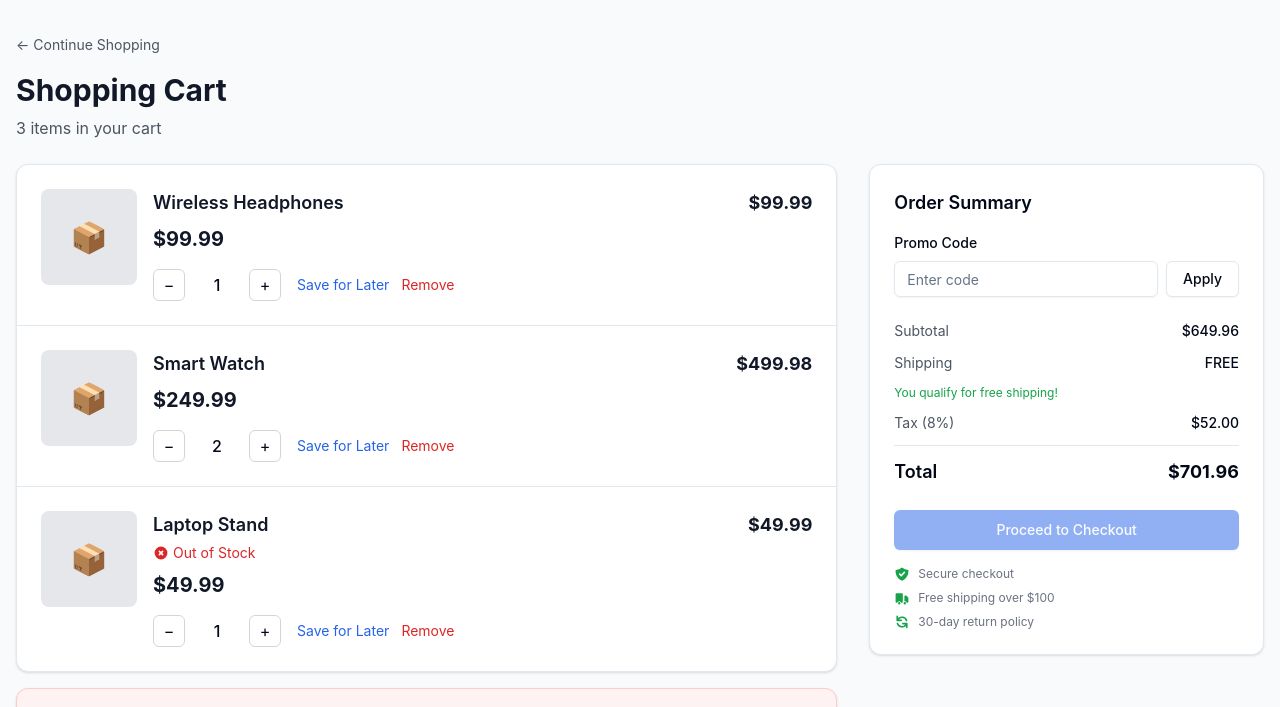
Test: CartPage - Save for Later › should increase item quantity
This screenshot has width=1280, height=707.
expect the text with test id "quantity-1" reads "1": met, box [214, 275, 220, 295]
Click the button with test id "increase-quantity-1".
click(265, 285)  # box [249, 269, 281, 301]
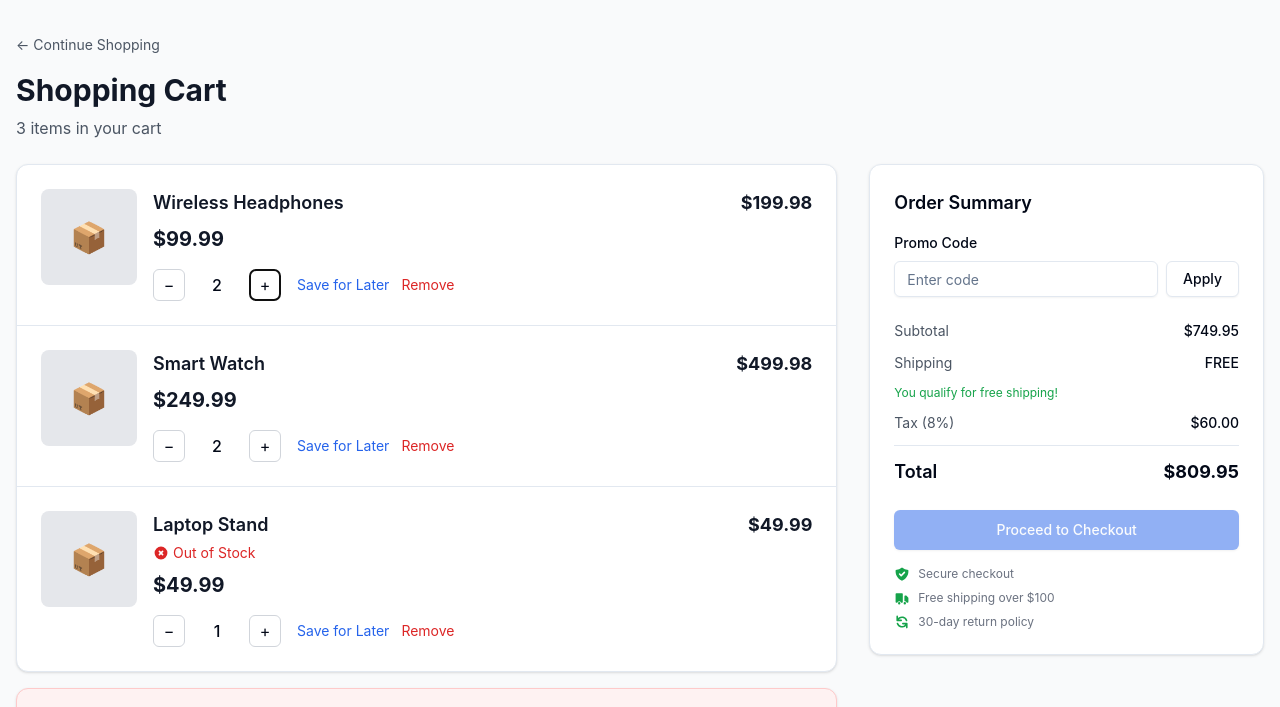
expect the text with test id "quantity-1" reads "2": met, box [212, 275, 222, 295]
